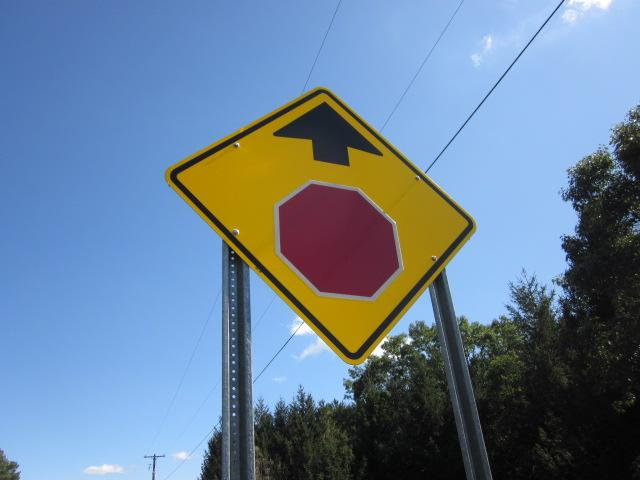stop: (275, 182, 405, 303)
warning: (164, 89, 478, 365)
